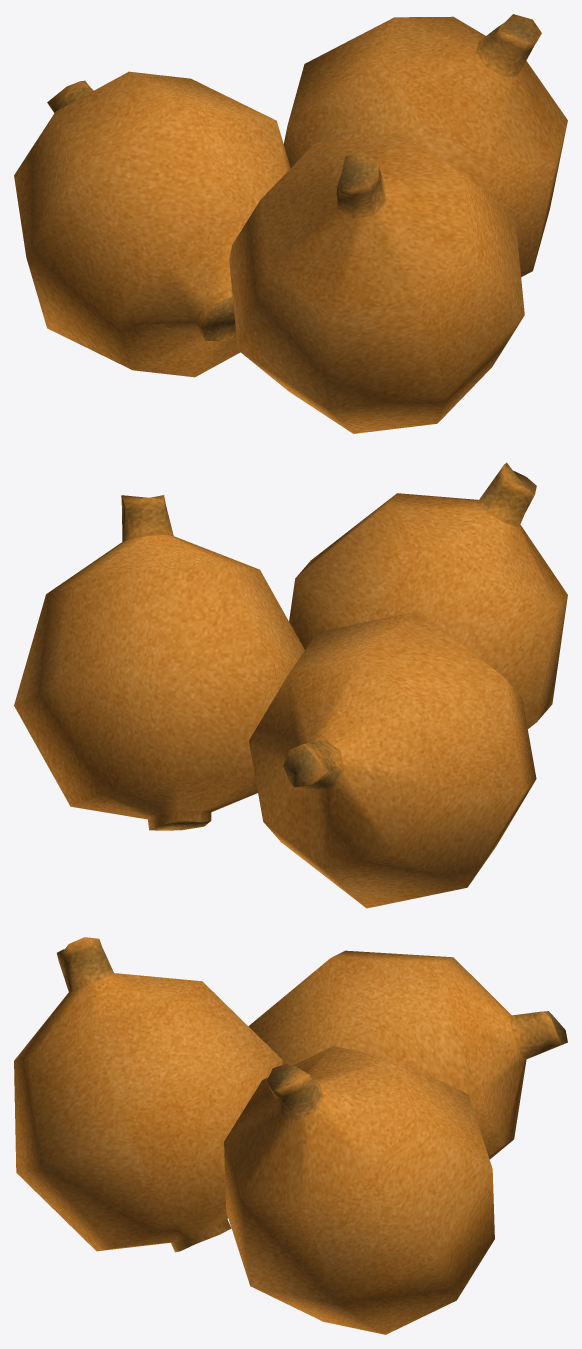
Rendered from Onions.fbx.
3 views of the same model, one above another, from view 1: azimuth 30°, elevation 25°; view 2: azimuth 150°, elevation 25°; view 3: azimuth 270°, elevation 25° (orthographic). The views are drawn at different scales.
Visible parts, largest first — view 1: Onion, Onion.002, Onion.001; view 2: Onion.001, Onion.002, Onion; view 3: Onion.001, Onion, Onion.002.
Part boxes in pixels (left/top/right/bottom): Onion: left=229, top=132, right=524, bottom=433; Onion.002: left=14, top=71, right=290, bottom=377; Onion.001: left=283, top=14, right=567, bottom=276; Onion.001: left=14, top=495, right=304, bottom=830; Onion.002: left=249, top=611, right=536, bottom=908; Onion: left=289, top=462, right=567, bottom=728; Onion.001: left=224, top=1046, right=494, bottom=1334; Onion: left=14, top=937, right=282, bottom=1252; Onion.002: left=248, top=950, right=567, bottom=1159.
Size of the model in its own units: 25.85 by 15.3 by 26.38.
